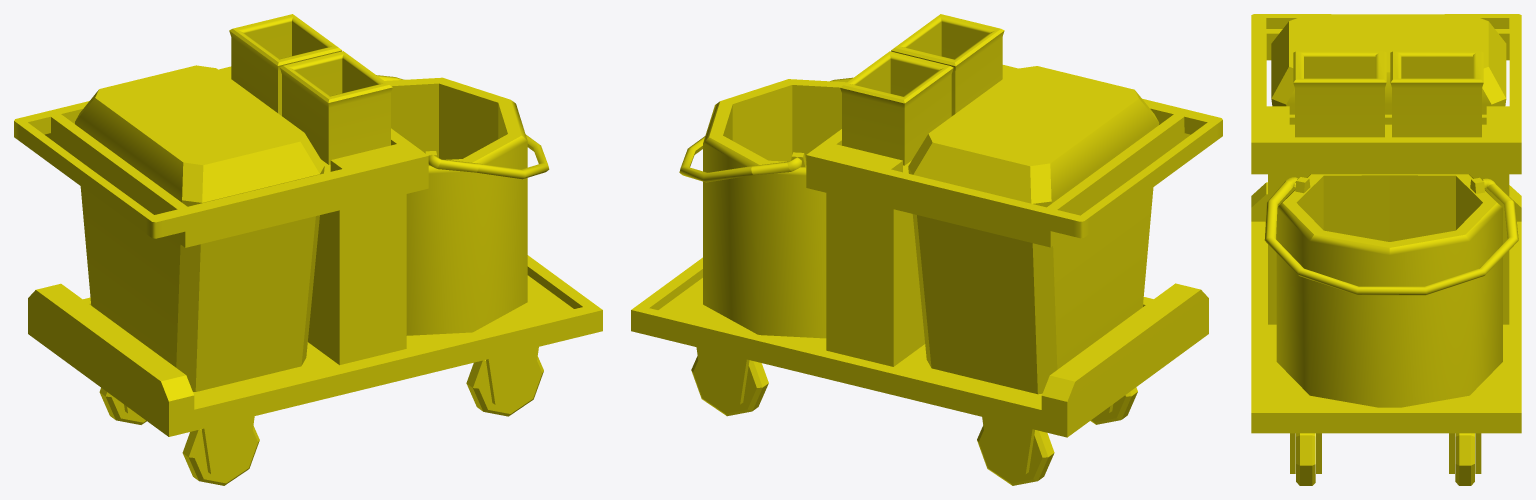
Rendered from cart.fbx.
3 views of the same model, side by side, from view 1: azimuth 30°, elevation 25°; view 2: azimuth 150°, elevation 25°; view 3: azimuth 270°, elevation 25° (orthographic). The views are drawn at different scales.
Visible parts, largest first — view 1: cart; view 2: cart; view 3: cart.
Boxes of the visible parts, x1=… form: cart: x1=14, y1=14, x2=602, y2=485; cart: x1=631, y1=14, x2=1222, y2=485; cart: x1=1251, y1=14, x2=1521, y2=485.
Size of the model in its own units: 141 by 109 by 76.71.
